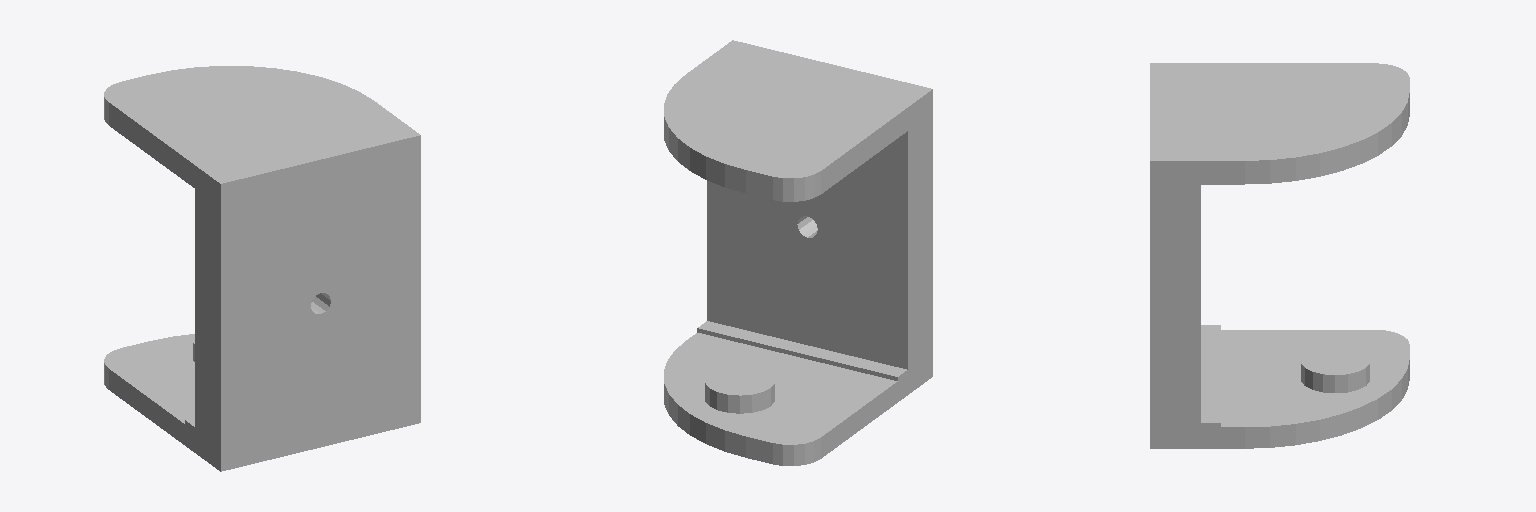
3 views of the same model, side by side, from view 1: azimuth 30°, elevation 25°; view 2: azimuth 150°, elevation 25°; view 3: azimuth 270°, elevation 25° (orthographic).
Visible parts, largest first — view 1: link_3.0; view 2: link_3.0; view 3: link_3.0.
Part boxes in pixels (x1,y1,x2,y2): link_3.0: (104, 66, 420, 471); link_3.0: (664, 40, 932, 465); link_3.0: (1150, 63, 1409, 448).
Bounding box in the file's own units: 0.0196 × 0.0269 × 0.022.